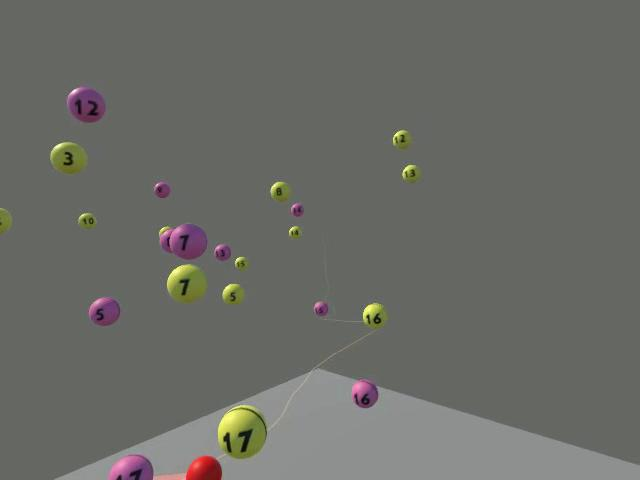ball_03_yellow: (49, 141, 87, 174)
ball_05_pink: (88, 296, 120, 326)
ball_05_yellow: (221, 283, 244, 304)
ball_07_pink: (169, 223, 207, 259)
ball_07_yellow: (166, 263, 206, 303)
ball_08_yellow: (269, 181, 290, 201)
ball_09_pink: (153, 181, 170, 198)
ball_10_yellow: (76, 213, 95, 230)
ball_12_pink: (66, 86, 105, 122)
ball_12_yellow: (392, 129, 411, 148)
ball_13_pink: (213, 243, 230, 260)
ball_13_yellow: (401, 164, 420, 182)
ball_14_pink: (290, 202, 304, 217)
ball_14_yellow: (288, 225, 301, 239)
ball_15_pink: (313, 301, 328, 315)
ball_15_yellow: (234, 256, 248, 270)
ball_16_pink: (352, 380, 378, 408)
ball_16_yellow: (362, 302, 388, 328)
ball_17_yellow: (218, 405, 267, 458)
ball_unknown: (108, 454, 153, 479), (158, 228, 173, 253), (0, 206, 12, 231), (158, 225, 171, 236)
user_cursor: (185, 455, 221, 479)
